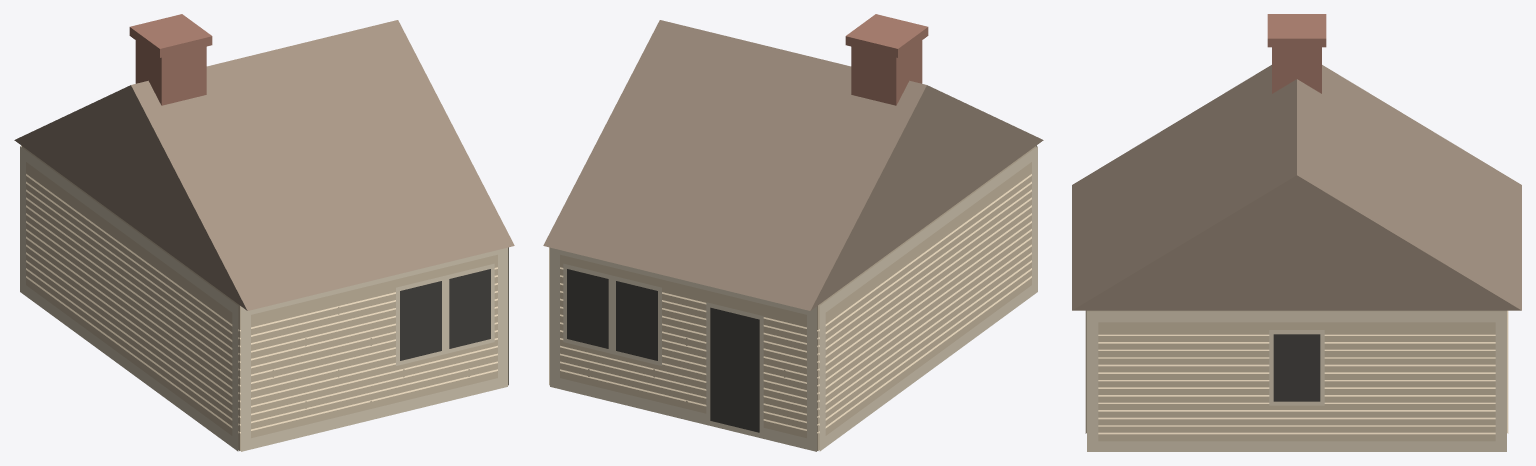
File: recon_1835_north_d3_024__inferred_1835.glb
3 views of the same model, side by side, from view 1: azimuth 30°, elevation 25°; view 2: azimuth 150°, elevation 25°; view 3: azimuth 270°, elevation 25° (orthographic). The views are drawn at different scales.
Visible parts, largest first — view 1: recon_1835_north_d3_024__inferred_1835; view 2: recon_1835_north_d3_024__inferred_1835; view 3: recon_1835_north_d3_024__inferred_1835.
Boxes of the visible parts, x1,y1,x2,y2 form: recon_1835_north_d3_024__inferred_1835: (14,14,514,451); recon_1835_north_d3_024__inferred_1835: (543,14,1043,451); recon_1835_north_d3_024__inferred_1835: (1072,14,1521,451).
Size of the model in its own units: 5.07 by 5.89 by 7.55.
